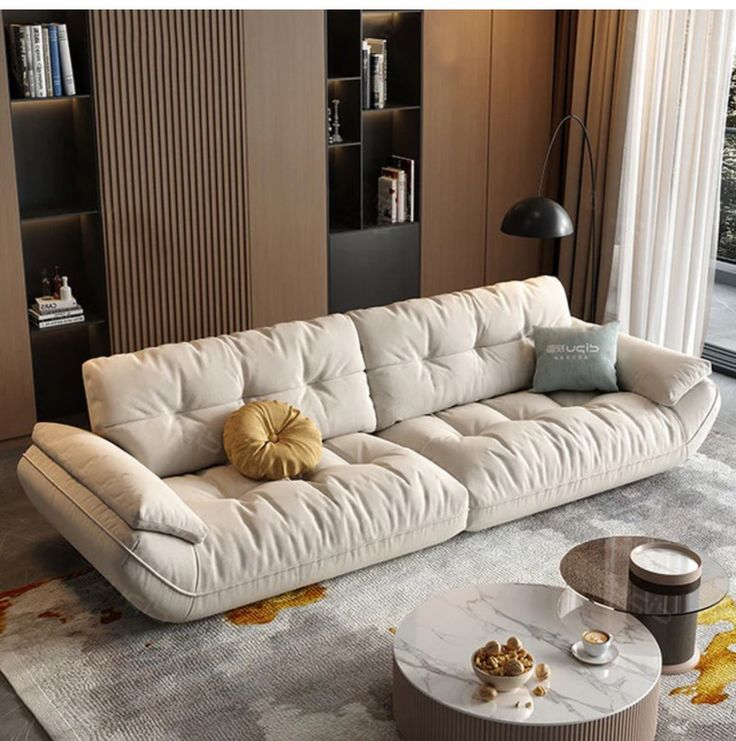3seatersofa: (19, 276, 719, 622)
backrest: (83, 277, 567, 474)
leftarmrest: (617, 334, 719, 456)
pillow: (225, 400, 321, 479), (534, 322, 617, 390)
rightarmrest: (18, 423, 207, 621)
seat: (165, 393, 684, 616)
